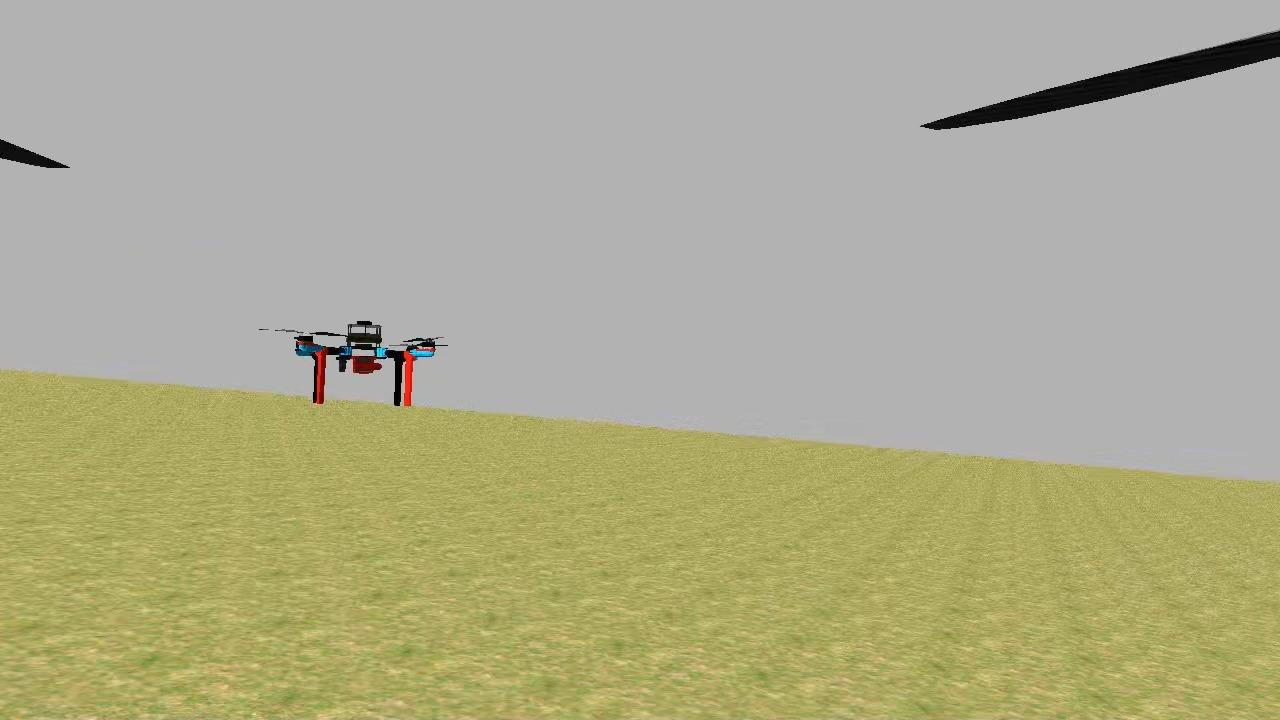UAV: (283, 310, 441, 414)
